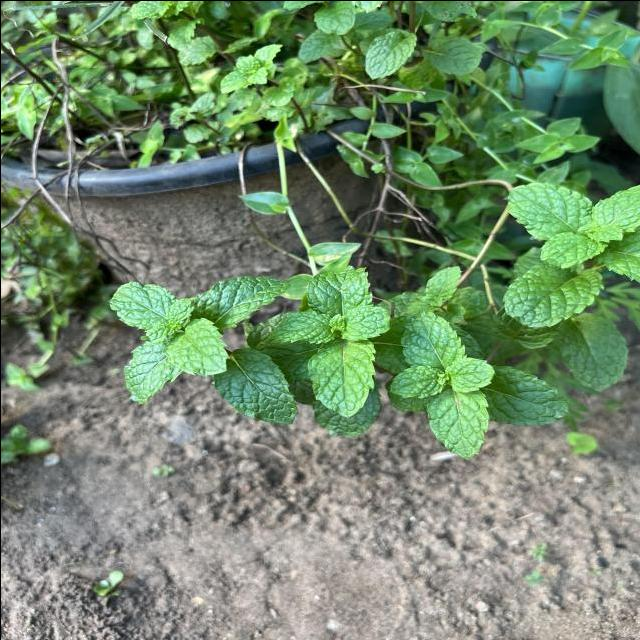Mentha spicata: (501, 262, 603, 328), (210, 348, 298, 424), (306, 338, 378, 418), (193, 274, 291, 332), (504, 181, 592, 239), (426, 390, 488, 460), (163, 317, 230, 377), (398, 310, 467, 366), (106, 279, 177, 329), (120, 343, 177, 405), (538, 231, 608, 269), (262, 309, 334, 344), (336, 304, 392, 341), (388, 364, 444, 398), (445, 356, 494, 392)
